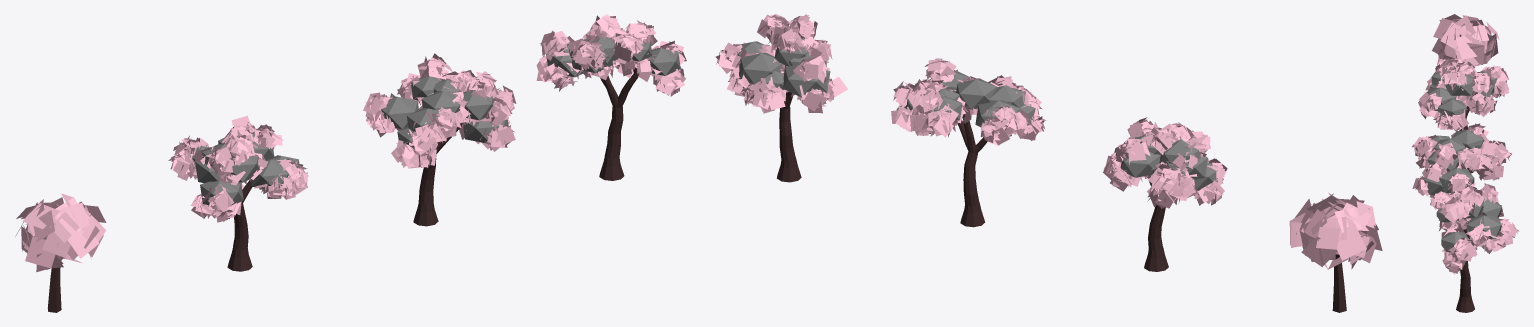
File: tree.glb
The picture shows the model from 3 angles, left to right: view 1: azimuth 30°, elevation 25°; view 2: azimuth 150°, elevation 25°; view 3: azimuth 270°, elevation 25°; orthographic projection. The views are drawn at different scales.
Parts seen in each view (by area): view 1: Tree_1_blossom, Tree_2_blossom, Tree_0_blossom, Tree_far_blossom, Tree_1_shade, Tree_2_shade, Tree_0_shade, Tree_0_bark, Tree_1_bark, Tree_2_bark, Tree_far_bark; view 2: Tree_1_blossom, Tree_0_blossom, Tree_2_blossom, Tree_far_blossom, Tree_1_shade, Tree_0_shade, Tree_2_shade, Tree_1_bark, Tree_0_bark, Tree_2_bark, Tree_far_bark; view 3: Tree_0_blossom, Tree_1_blossom, Tree_2_blossom, Tree_far_blossom, Tree_1_shade, Tree_0_shade, Tree_2_shade, Tree_0_bark.
Part boxes in pixels (left/top/right/bottom): Tree_1_blossom: left=363, top=53, right=516, bottom=168; Tree_2_blossom: left=168, top=115, right=308, bottom=222; Tree_0_blossom: left=536, top=14, right=686, bottom=96; Tree_far_blossom: left=15, top=193, right=106, bottom=272; Tree_1_shade: left=381, top=75, right=508, bottom=147; Tree_2_shade: left=189, top=133, right=300, bottom=205; Tree_0_shade: left=546, top=33, right=680, bottom=77; Tree_0_bark: left=599, top=67, right=639, bottom=180; Tree_1_bark: left=413, top=122, right=462, bottom=226; Tree_2_bark: left=227, top=180, right=252, bottom=271; Tree_far_bark: left=47, top=267, right=61, bottom=312; Tree_1_blossom: left=891, top=58, right=1046, bottom=145; Tree_0_blossom: left=715, top=14, right=847, bottom=113; Tree_2_blossom: left=1103, top=117, right=1227, bottom=208; Tree_far_blossom: left=1289, top=193, right=1382, bottom=269; Tree_1_shade: left=904, top=71, right=1035, bottom=126; Tree_0_shade: left=738, top=38, right=830, bottom=97; Tree_2_shade: left=1114, top=131, right=1217, bottom=190; Tree_1_bark: left=957, top=114, right=987, bottom=227; Tree_0_bark: left=776, top=92, right=801, bottom=182; Tree_2_bark: left=1144, top=181, right=1168, bottom=271; Tree_far_bark: left=1332, top=254, right=1346, bottom=312; Tree_0_blossom: left=1430, top=183, right=1519, bottom=274; Tree_1_blossom: left=1412, top=123, right=1511, bottom=197; Tree_2_blossom: left=1418, top=55, right=1509, bottom=131; Tree_far_blossom: left=1432, top=14, right=1499, bottom=66; Tree_1_shade: left=1423, top=130, right=1491, bottom=195; Tree_0_shade: left=1436, top=197, right=1502, bottom=252; Tree_2_shade: left=1427, top=65, right=1497, bottom=117; Tree_0_bark: left=1456, top=229, right=1474, bottom=312.
Size of the model in its own units: 43.02 by 9.68 by 7.93.
